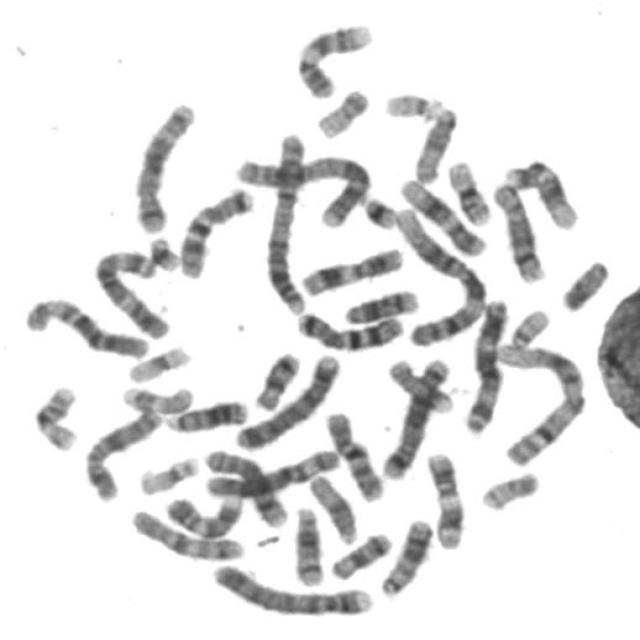A1: (388, 198, 489, 347), (489, 336, 592, 468)
A2: (228, 146, 374, 230), (259, 124, 314, 317)
A3: (87, 241, 174, 340), (460, 290, 514, 434)
B4: (230, 346, 345, 452), (205, 556, 378, 619)
B5: (377, 350, 455, 481), (127, 94, 199, 235)
C10: (125, 503, 248, 563), (320, 402, 389, 503)
C11: (294, 240, 408, 297), (420, 445, 470, 551)
C12: (394, 170, 491, 258), (499, 152, 582, 231)
C6: (19, 289, 153, 361), (200, 440, 345, 500)
C7: (173, 179, 258, 280), (290, 304, 408, 352)
C8: (198, 442, 292, 529), (486, 175, 550, 285)
C9: (290, 15, 377, 99), (160, 488, 248, 540)
D13: (374, 510, 438, 600), (159, 391, 251, 435)
D14: (337, 282, 423, 326), (288, 499, 329, 587)
D15: (408, 100, 461, 186), (304, 467, 362, 545)
E16: (27, 378, 84, 452), (441, 152, 496, 227)
E17: (383, 352, 457, 415), (115, 378, 198, 415)
E18: (325, 525, 395, 581), (248, 344, 304, 412)
F19: (122, 338, 194, 385), (134, 449, 202, 497)
F20: (310, 80, 373, 140), (476, 464, 544, 512)
G21: (355, 187, 400, 230), (143, 228, 184, 272)
G22: (504, 301, 554, 352), (378, 84, 446, 121)
X: (78, 402, 165, 503)
Y: (556, 251, 614, 314)
